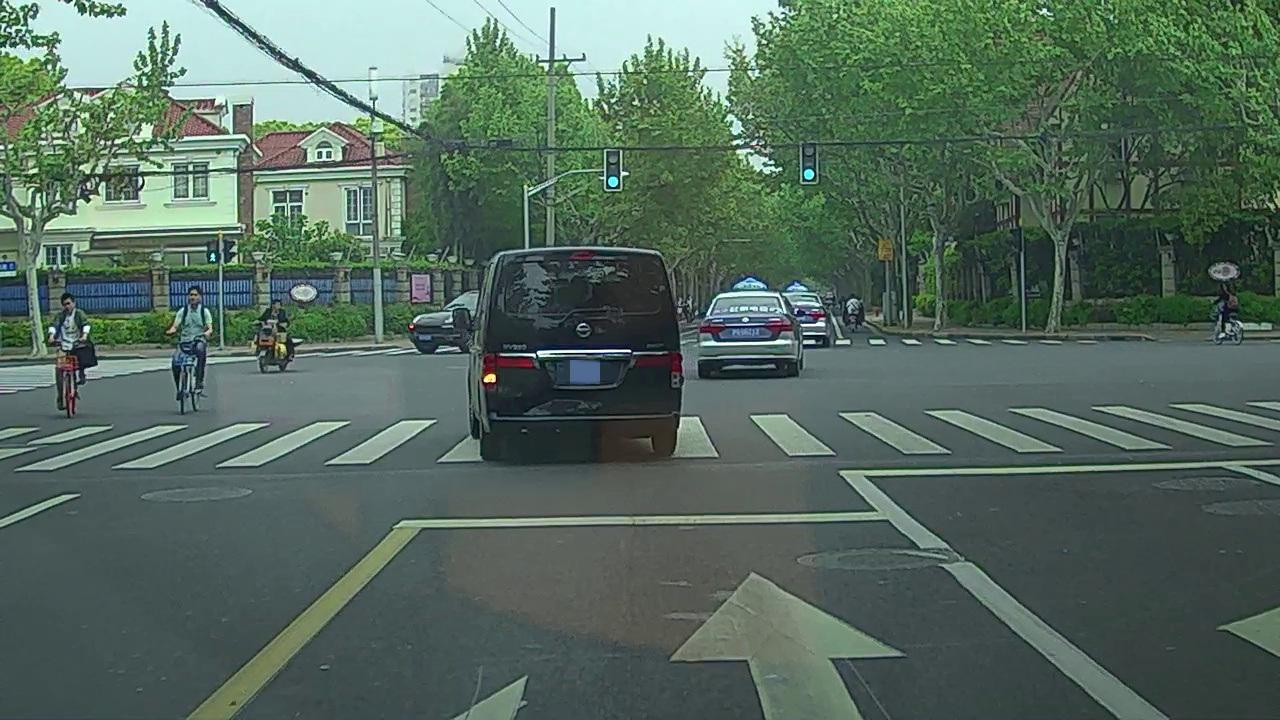traffic_light: (799, 142, 818, 184), (604, 148, 622, 190)
